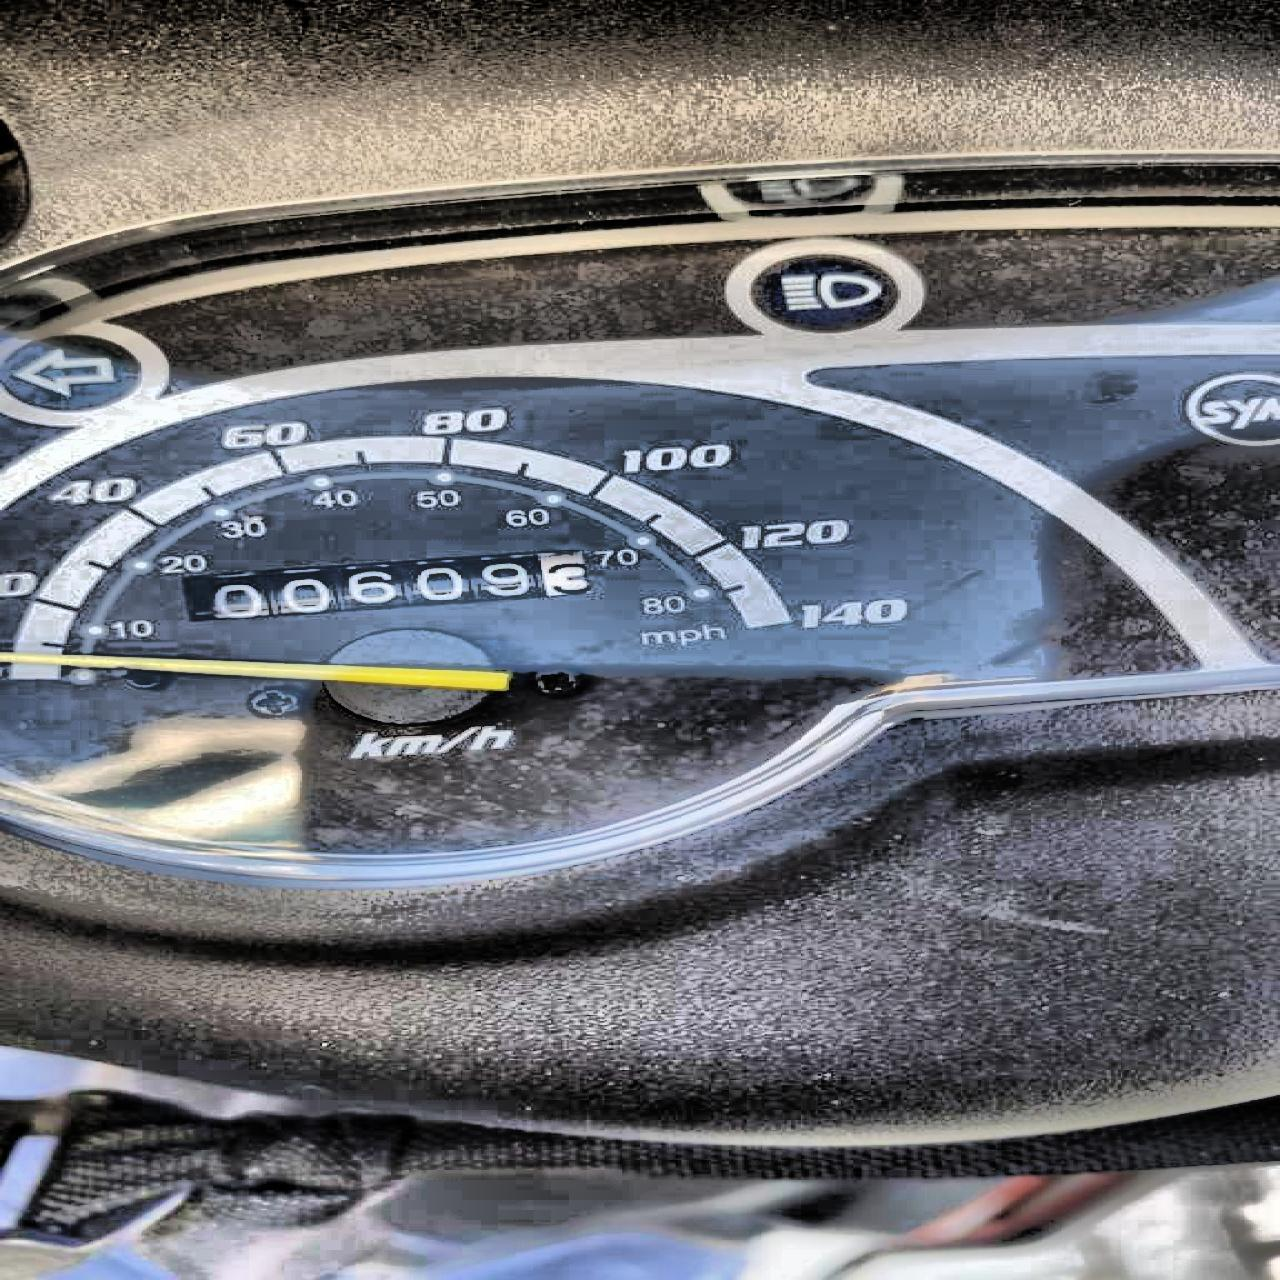0: (414, 565, 463, 600), (280, 578, 329, 613), (211, 583, 260, 618), (182, 553, 202, 572)
3: (545, 561, 591, 594)
6: (347, 570, 395, 602)
9: (478, 561, 529, 595)
odometer: (176, 546, 595, 622)
